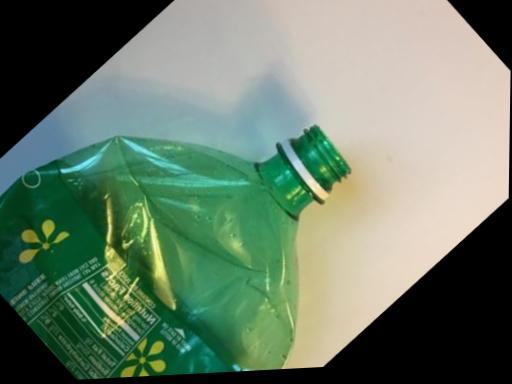plastic: (0, 1, 350, 383)
